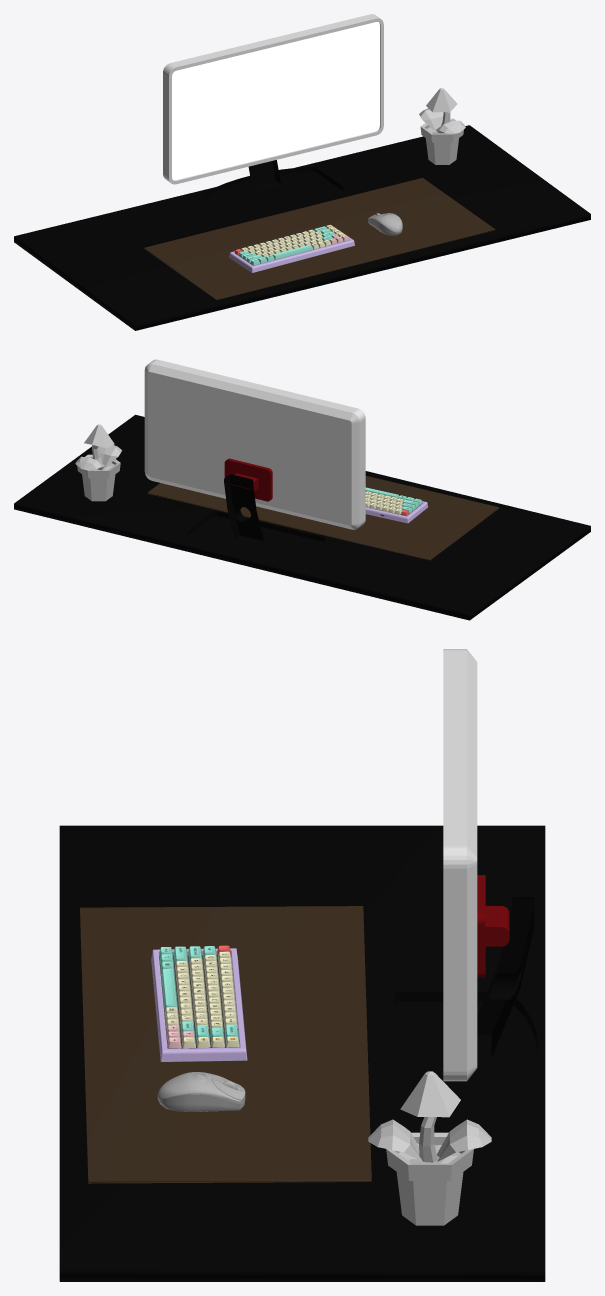
3 views of the same model, one above another, from view 1: azimuth 30°, elevation 25°; view 2: azimuth 150°, elevation 25°; view 3: azimuth 270°, elevation 25° (orthographic). The views are drawn at different scales.
Parts seen in each view (by area): view 1: Desk, Monitor, Pad, Keyboard, shroom, Mouse; view 2: Monitor, Desk, Pad, shroom, Keyboard; view 3: Desk, Pad, Monitor, Keyboard, shroom, Mouse.
Boxes of the visible parts, left/top/right/bottom form: Desk: left=14, top=125, right=590, bottom=330; Monitor: left=163, top=14, right=383, bottom=218; Pad: left=144, top=178, right=495, bottom=299; Keyboard: left=229, top=224, right=354, bottom=272; shroom: left=419, top=88, right=465, bottom=164; Mouse: left=368, top=213, right=402, bottom=235; Monitor: left=144, top=359, right=365, bottom=563; Desk: left=14, top=414, right=590, bottom=620; Pad: left=147, top=476, right=499, bottom=560; shroom: left=75, top=424, right=121, bottom=501; Keyboard: left=365, top=487, right=427, bottom=523; Desk: left=59, top=825, right=545, bottom=1281; Pad: left=80, top=906, right=371, bottom=1183; Monitor: left=394, top=649, right=537, bottom=1110; Keyboard: left=151, top=945, right=247, bottom=1061; shroom: left=368, top=1071, right=491, bottom=1225; Mouse: left=157, top=1072, right=245, bottom=1111.
Size of the model in its own units: 1.3 by 0.436 by 0.6.
